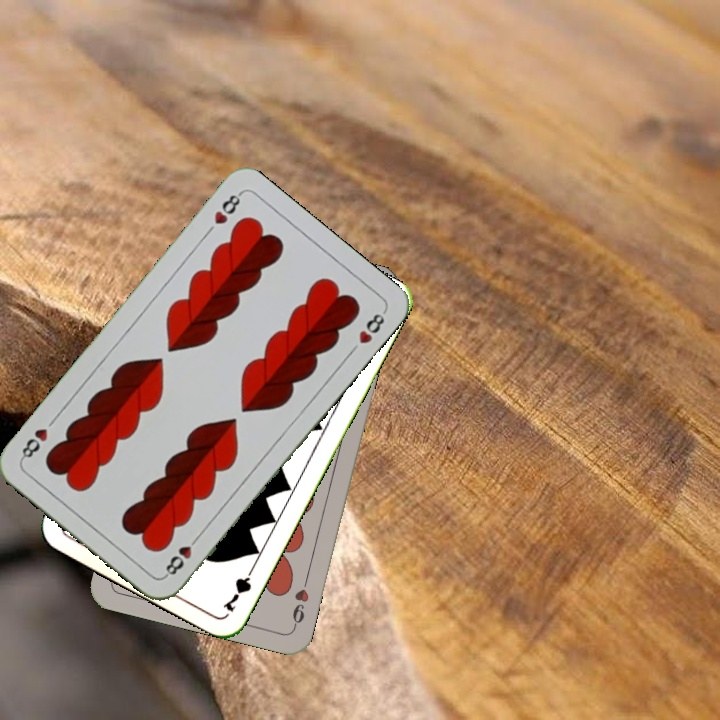G7: (218, 560, 258, 615)
H8: (161, 530, 203, 579), (210, 188, 244, 227)
H9: (288, 572, 312, 630)
